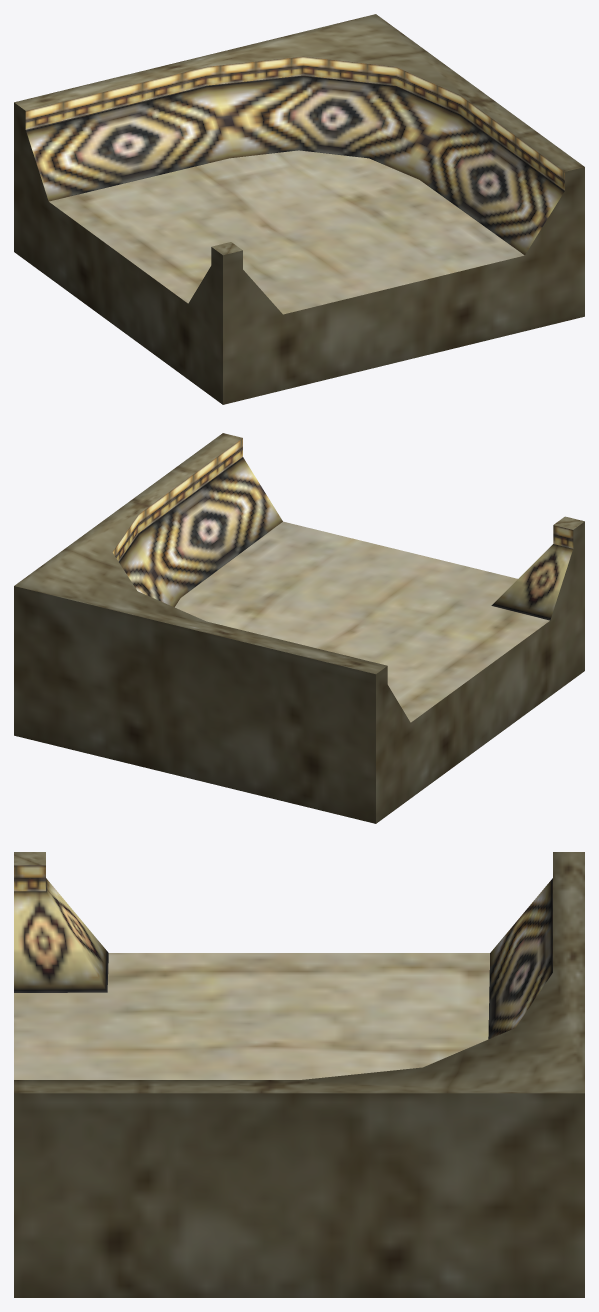
The model's file is jun_tile_stone_corner.obj.
3 views of the same model, one above another, from view 1: azimuth 30°, elevation 25°; view 2: azimuth 150°, elevation 25°; view 3: azimuth 270°, elevation 25° (orthographic). The views are drawn at different scales.
Parts seen in each view (by area): view 1: tile_corner_new; view 2: tile_corner_new; view 3: tile_corner_new.
Part boxes in pixels (x1=…): tile_corner_new: x1=14, y1=14, x2=584, y2=404; tile_corner_new: x1=14, y1=433, x2=584, y2=823; tile_corner_new: x1=14, y1=852, x2=584, y2=1297.
Size of the model in its own units: 1 by 0.395 by 1.
1 material, 1 textured.
